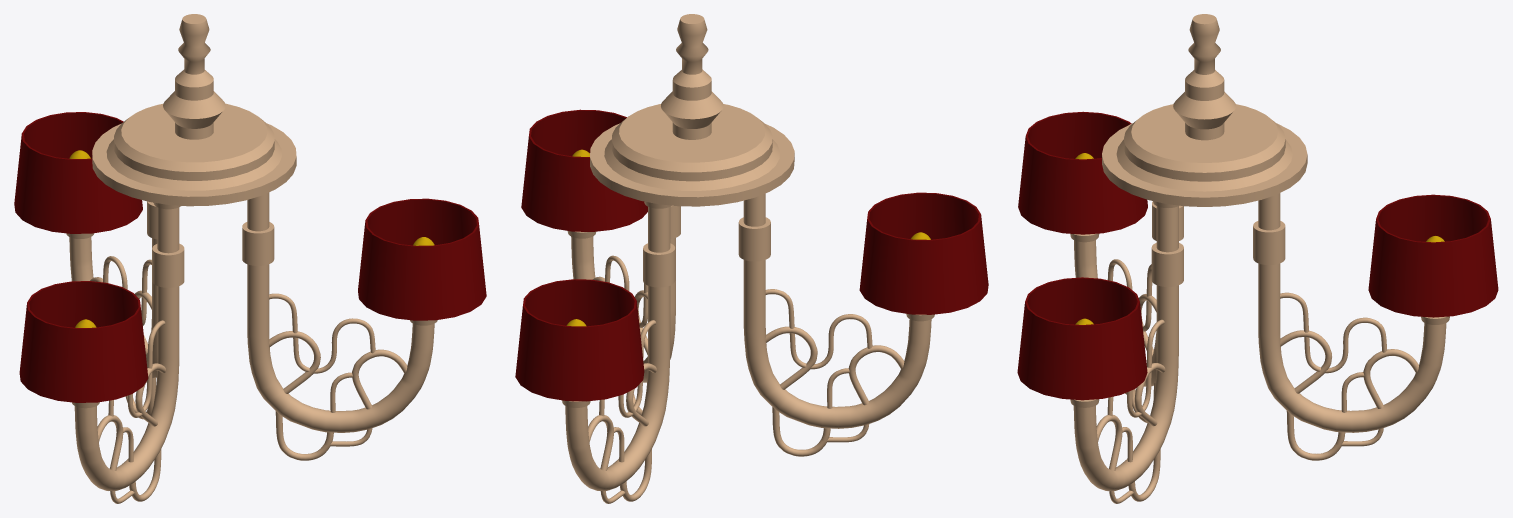
File: Lustre2_3.fbx
The picture shows the model from 3 angles, left to right: view 1: azimuth 30°, elevation 25°; view 2: azimuth 150°, elevation 25°; view 3: azimuth 270°, elevation 25°; orthographic projection.
Parts seen in each view (by area): view 1: pCylinder1147, pPipe163, pPipe165, pPipe164, pCylinder1185, pCylinder1190, pCylinder1198, pCylinder1180, pCylinder1179, pCylinder1160, pCylinder1181, pCylinder1148; view 2: pCylinder1147, pPipe164, pPipe165, pPipe163, pCylinder1190, pCylinder1198, pCylinder1185, pCylinder1193, pCylinder1192, pCylinder1189, pCylinder1187, pCylinder1180 (+1 smaller); view 3: pCylinder1147, pPipe163, pPipe164, pPipe165, pCylinder1198, pCylinder1185, pCylinder1190, pCylinder1165, pCylinder1174, pCylinder1173, pCylinder1176, pCylinder1160.
Boxes of the visible parts, bbox=[...] form: pCylinder1147: bbox=[92, 14, 296, 206]; pPipe163: bbox=[358, 198, 486, 320]; pPipe165: bbox=[19, 281, 148, 402]; pPipe164: bbox=[14, 112, 142, 233]; pCylinder1185: bbox=[242, 192, 434, 432]; pCylinder1190: bbox=[74, 202, 184, 490]; pCylinder1198: bbox=[69, 201, 157, 382]; pCylinder1180: bbox=[293, 318, 375, 373]; pCylinder1179: bbox=[269, 331, 320, 393]; pCylinder1160: bbox=[352, 349, 407, 409]; pCylinder1181: bbox=[275, 411, 333, 460]; pCylinder1148: bbox=[97, 416, 123, 470]; pCylinder1147: bbox=[590, 14, 794, 206]; pPipe164: bbox=[515, 279, 644, 401]; pPipe165: bbox=[859, 192, 988, 314]; pPipe163: bbox=[521, 109, 647, 231]; pCylinder1190: bbox=[738, 193, 931, 428]; pCylinder1198: bbox=[565, 201, 675, 490]; pCylinder1185: bbox=[571, 205, 680, 382]; pCylinder1193: bbox=[789, 314, 871, 369]; pCylinder1192: bbox=[765, 326, 815, 389]; pCylinder1189: bbox=[848, 345, 903, 405]; pCylinder1187: bbox=[772, 407, 829, 456]; pCylinder1180: bbox=[605, 255, 647, 327]; pCylinder1147: bbox=[1102, 14, 1307, 206]; pPipe163: bbox=[1017, 277, 1147, 400]; pPipe164: bbox=[1368, 194, 1498, 317]; pPipe165: bbox=[1018, 111, 1147, 234]; pCylinder1198: bbox=[1253, 193, 1446, 432]; pCylinder1185: bbox=[1073, 201, 1183, 491]; pCylinder1190: bbox=[1074, 201, 1183, 386]; pCylinder1165: bbox=[1304, 318, 1386, 373]; pCylinder1174: bbox=[1280, 330, 1331, 393]; pCylinder1173: bbox=[1363, 349, 1418, 408]; pCylinder1176: bbox=[1286, 411, 1345, 460]; pCylinder1160: bbox=[1096, 415, 1122, 470].
Bounding box in the file's own units: 53.12 × 49.5 × 48.95.
